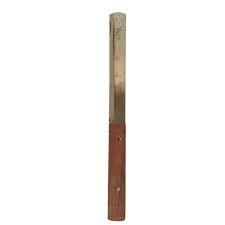Knife: (107, 11, 126, 221)
